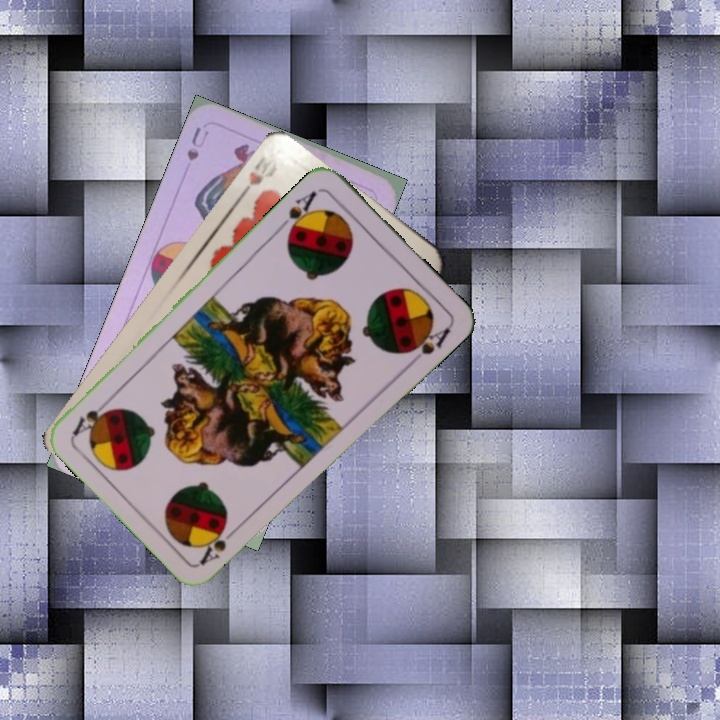H10: (234, 155, 280, 202)
SA: (275, 187, 320, 239), (195, 521, 243, 568)
SU: (182, 123, 212, 164)
